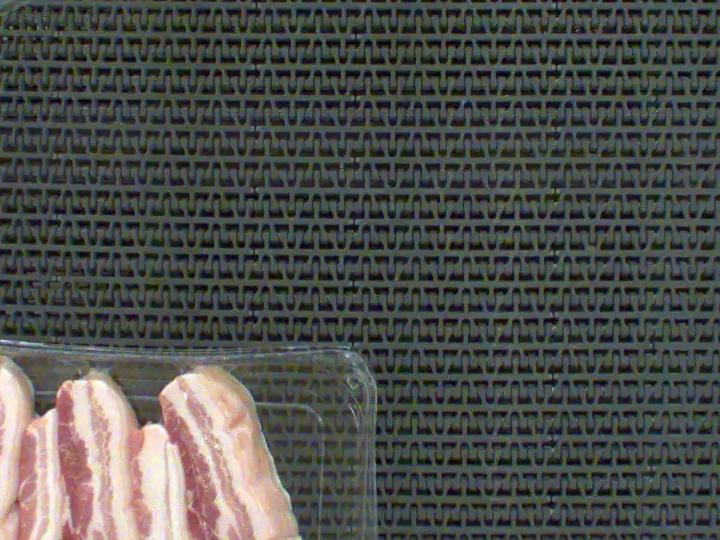packaging-error: (0, 296, 241, 382)
